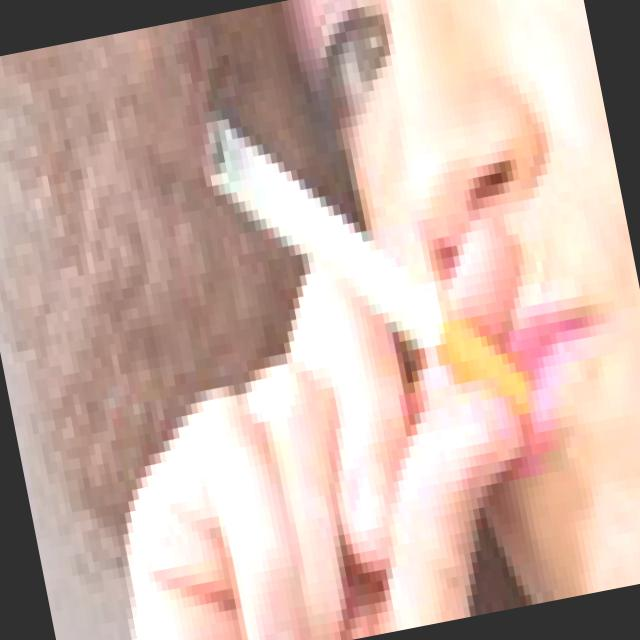smoke: (193, 52, 552, 505)
